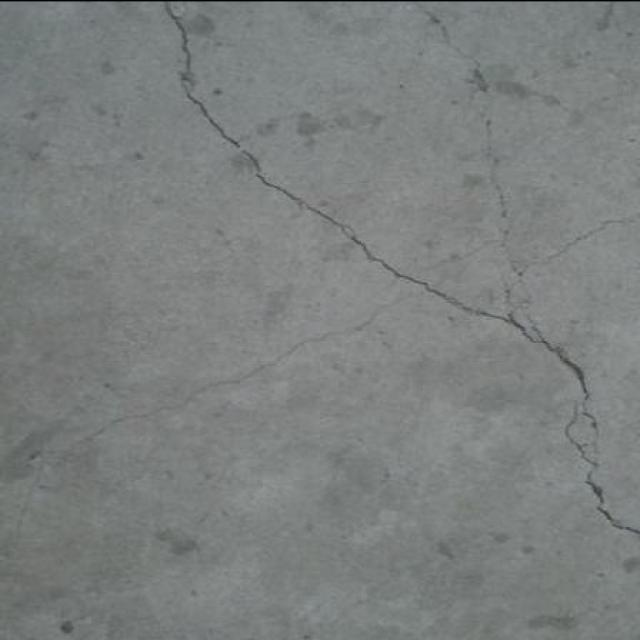Crack: (166, 0, 638, 528), (0, 290, 421, 473)
